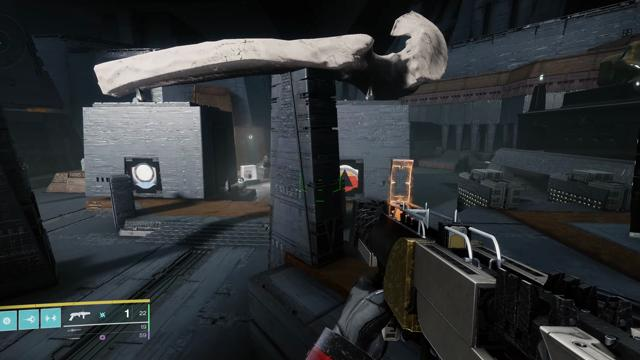pyramid: (340, 164, 358, 192)
traveler: (131, 162, 157, 189)
